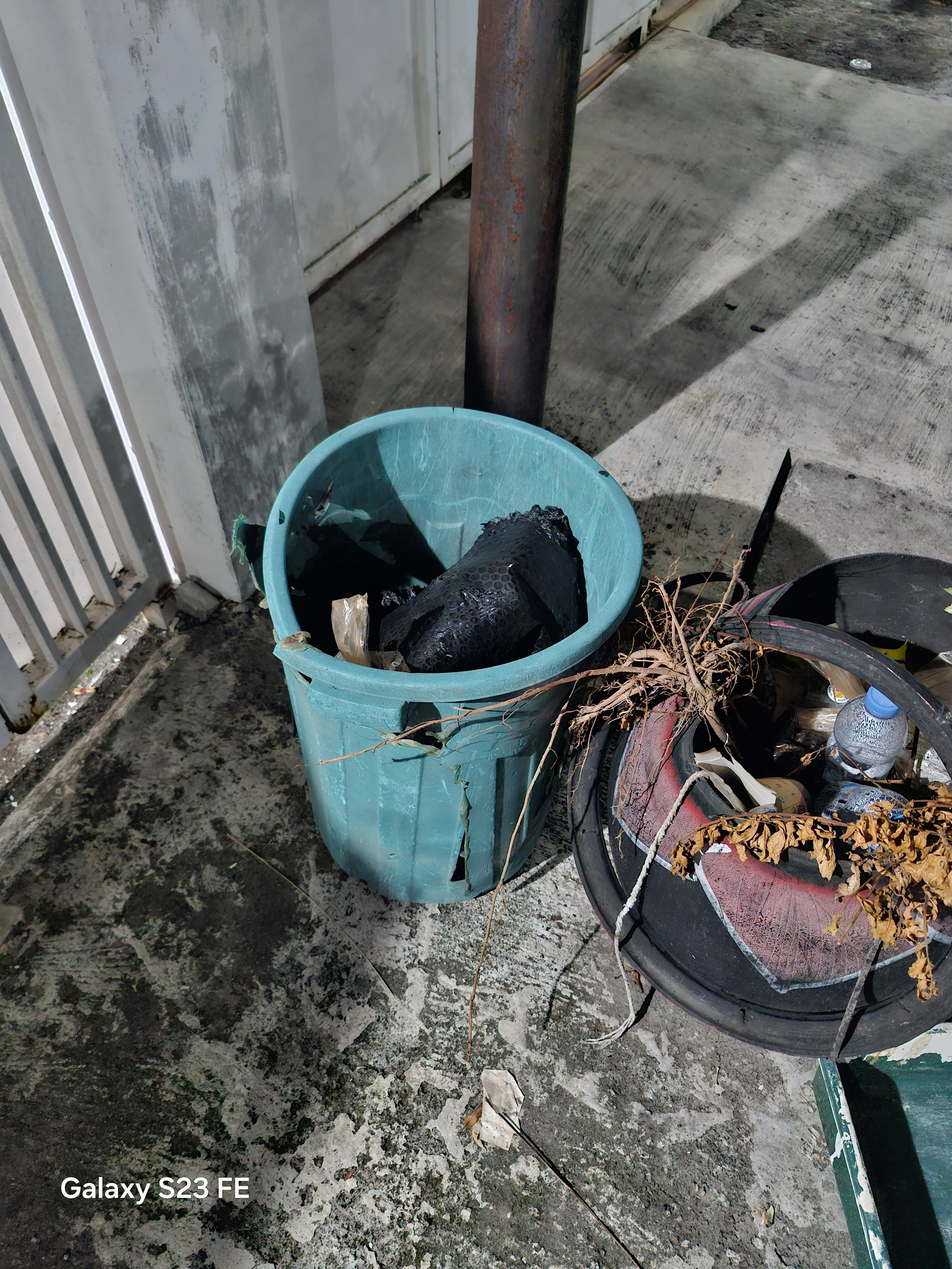bottle: (832, 687, 907, 779)
floor-other-merged: (0, 0, 951, 1268), (317, 419, 367, 434)
trash-bin: (235, 404, 641, 903)
wall-other-merged: (0, 0, 470, 736)
